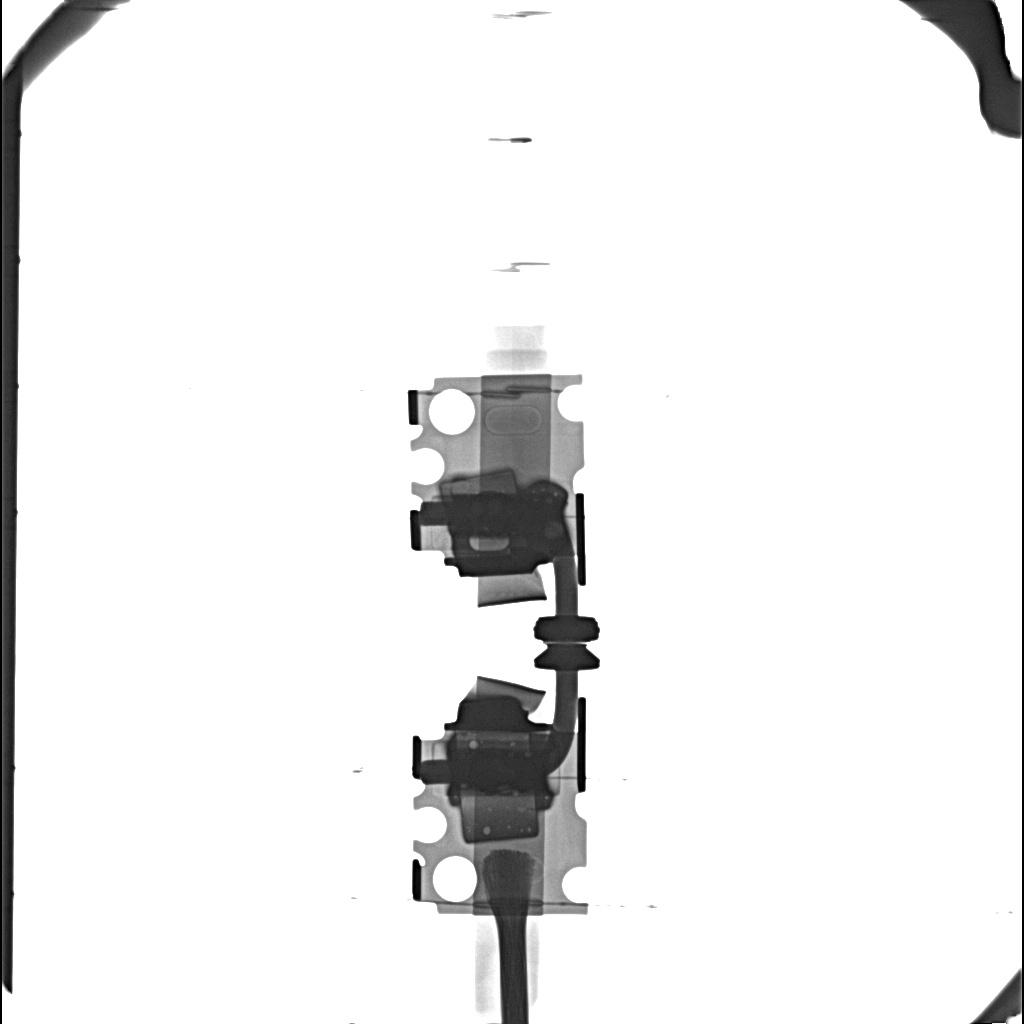PX: (459, 797, 540, 843), (439, 469, 519, 499)
QP: (469, 536, 509, 551), (469, 741, 478, 749)
SX: (448, 494, 561, 535), (452, 752, 541, 787)
